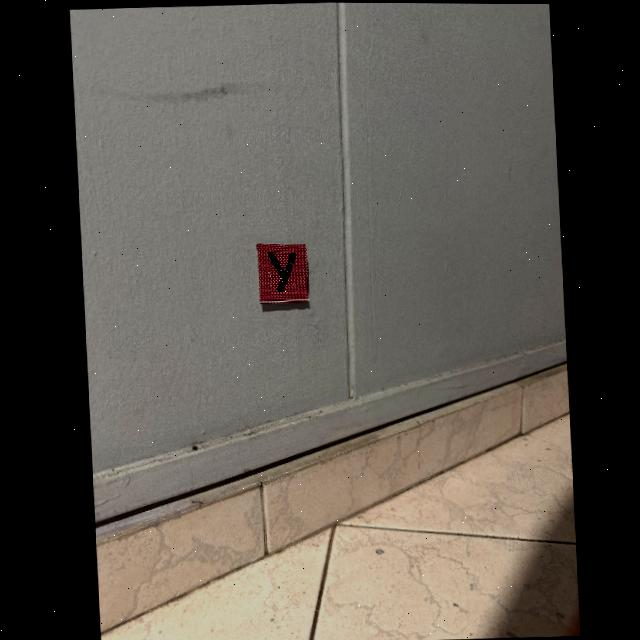Y: (267, 252, 295, 292)
